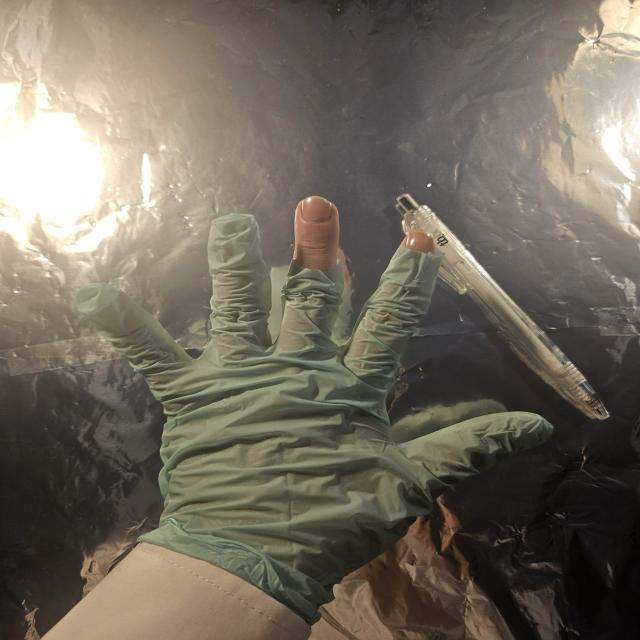gloves_damaged: (70, 194, 558, 627)
